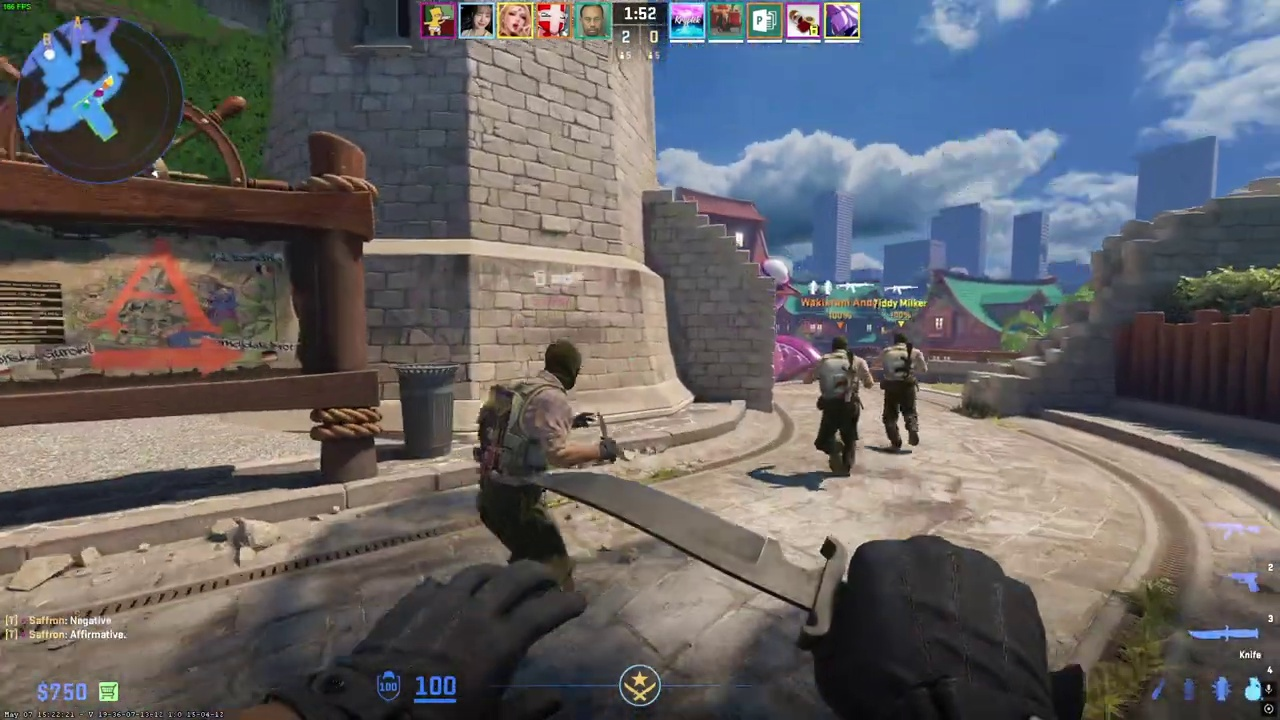Terrorist: (476, 339, 584, 612), (812, 336, 866, 477), (876, 332, 925, 452)
